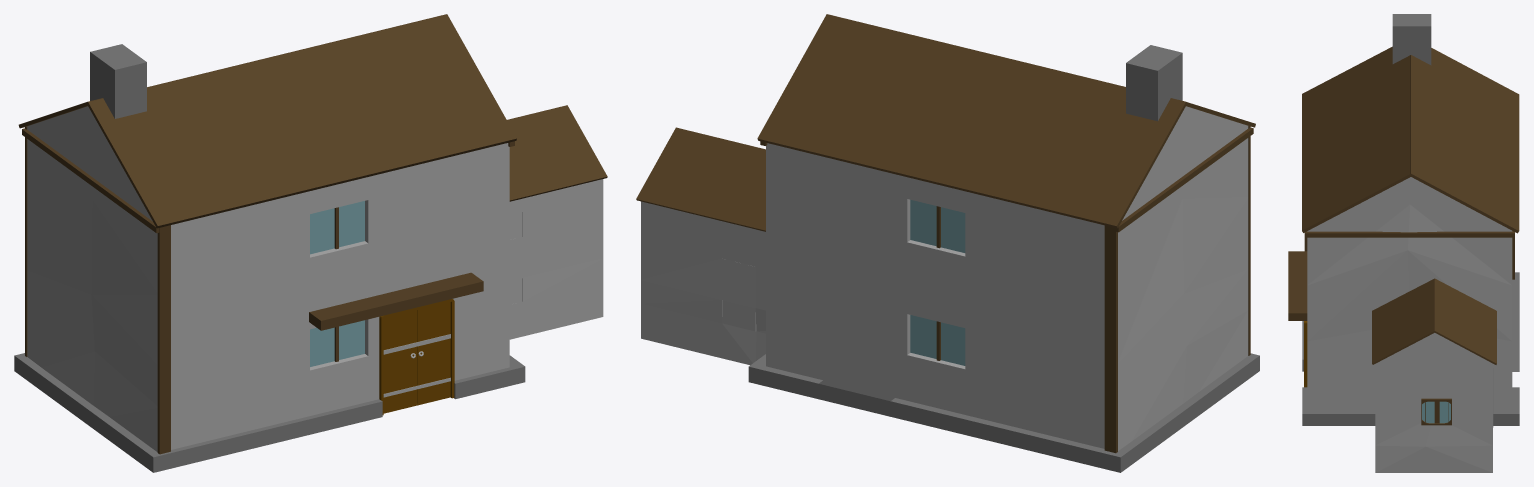
The model's file is House5.fbx.
3 views of the same model, side by side, from view 1: azimuth 30°, elevation 25°; view 2: azimuth 150°, elevation 25°; view 3: azimuth 270°, elevation 25° (orthographic). The views are drawn at different scales.
Parts seen in each view (by area): view 1: House6; view 2: House6; view 3: House6.
Boxes of the visible parts, bbox=[...] form: House6: bbox=[14, 14, 607, 472]; House6: bbox=[636, 14, 1259, 472]; House6: bbox=[1288, 14, 1519, 472].
Bounding box in the file's own units: 77.98 × 53.09 × 40.03.
